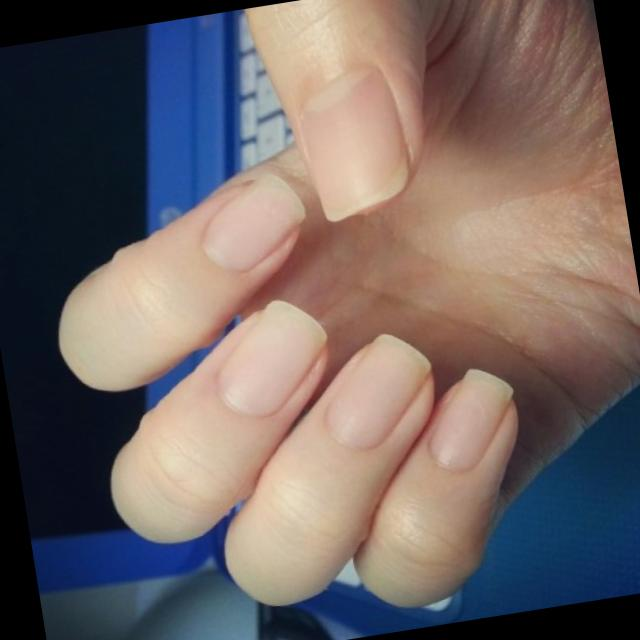Nail: (302, 69, 409, 218), (218, 299, 327, 415), (327, 334, 429, 448), (203, 174, 305, 270), (430, 369, 514, 470)
